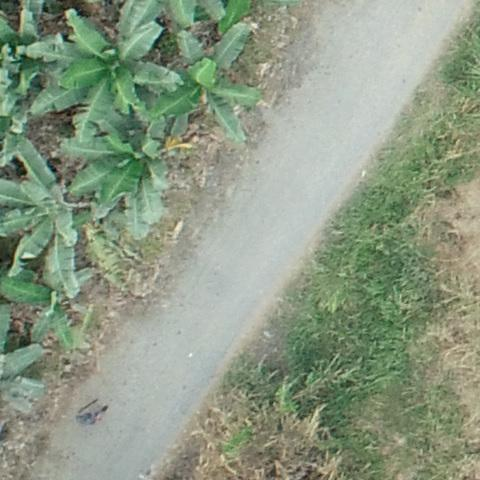Banana-plant: (34, 9, 177, 125), (1, 151, 84, 291), (160, 35, 262, 146), (66, 122, 169, 229)
